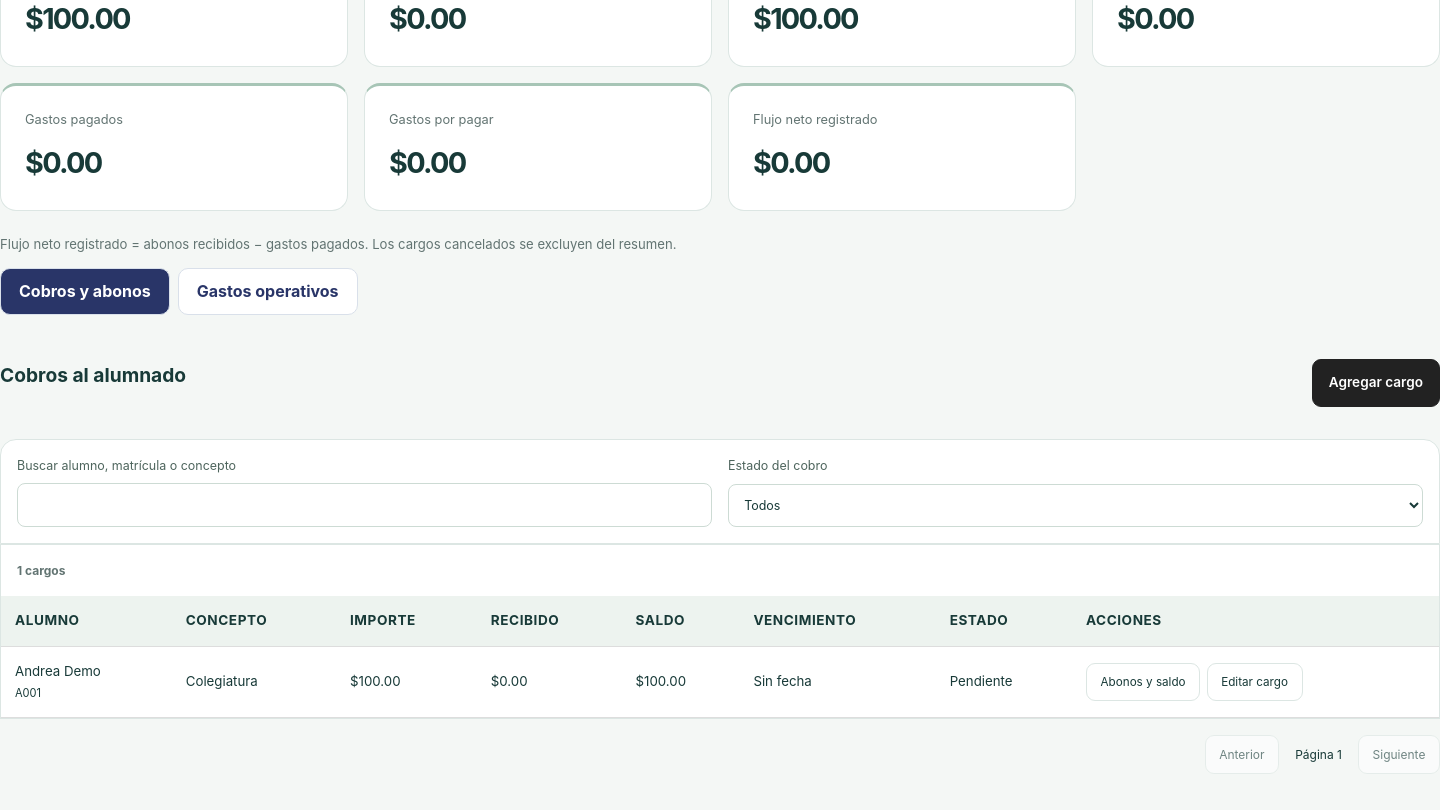
Test: registra abonos con identificador de reintento y actualiza el saldo
(page scrolled)
Click the button "Abonos y saldo".
click(1143, 682)  # box x1=1086 y1=663 x2=1200 y2=701
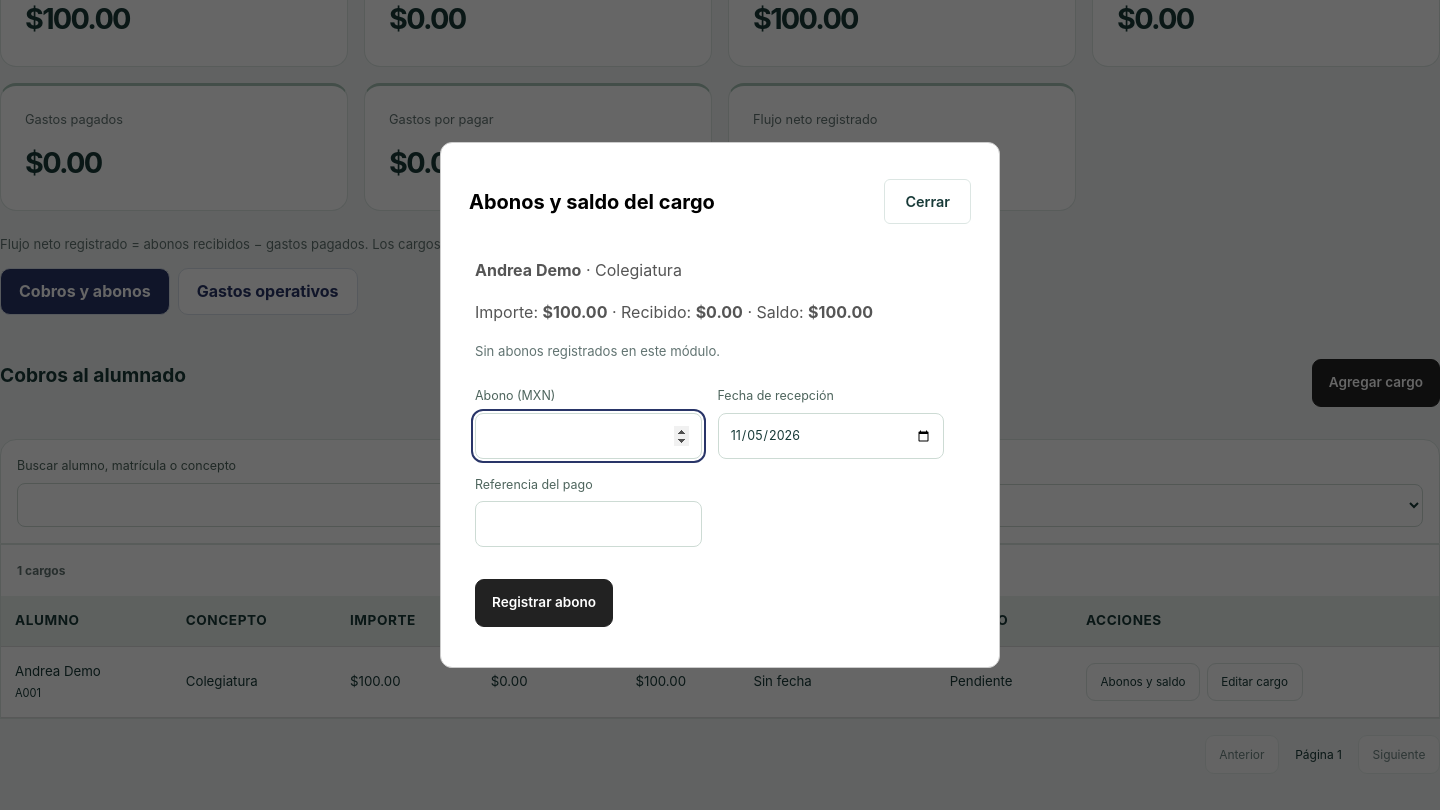
Type "25" into the number field labelled "Abono (MXN)".
click(588, 436); type("25")  # box x1=475 y1=413 x2=702 y2=459
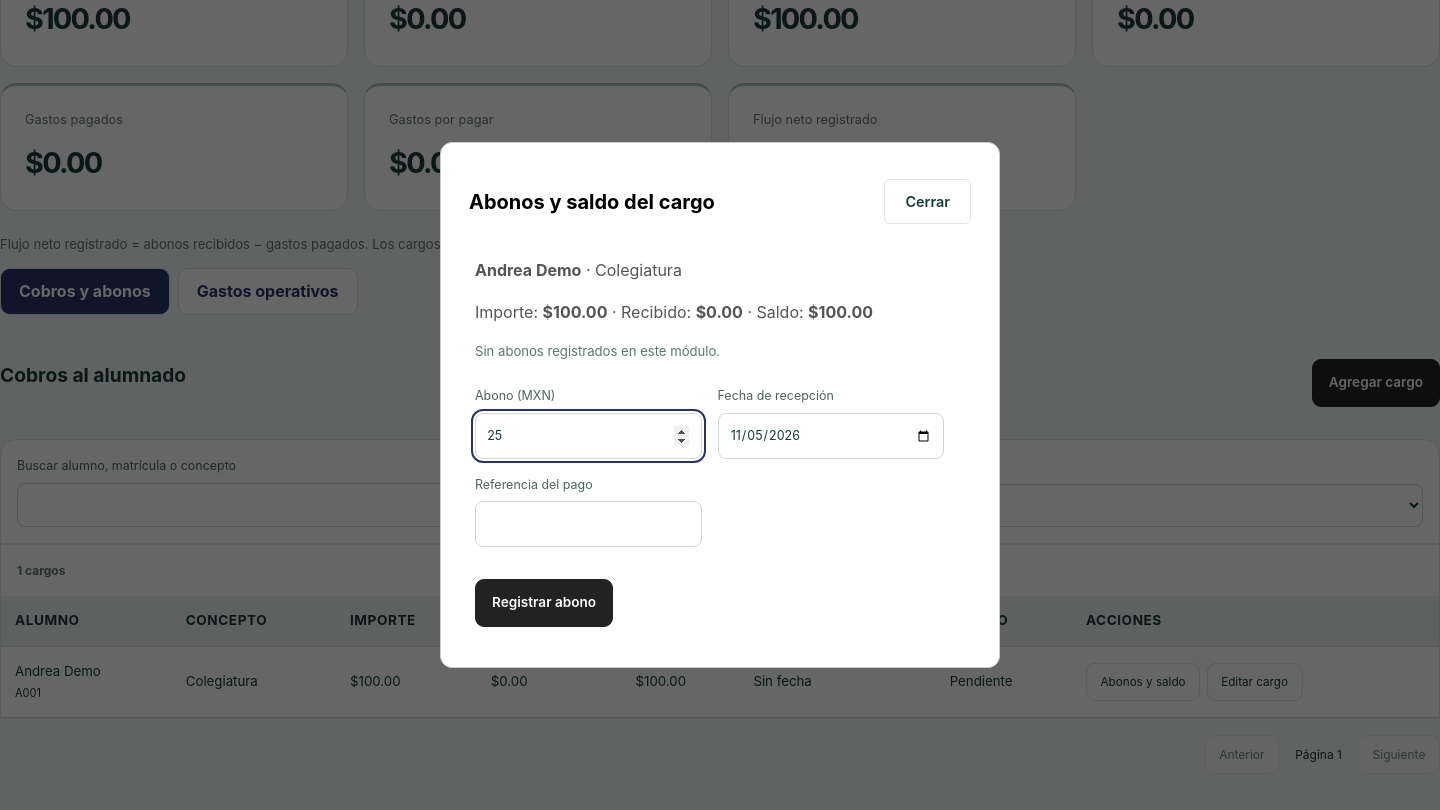
Click the button "Registrar abono".
click(544, 603)  # box x1=475 y1=579 x2=613 y2=627
(page scrolled)
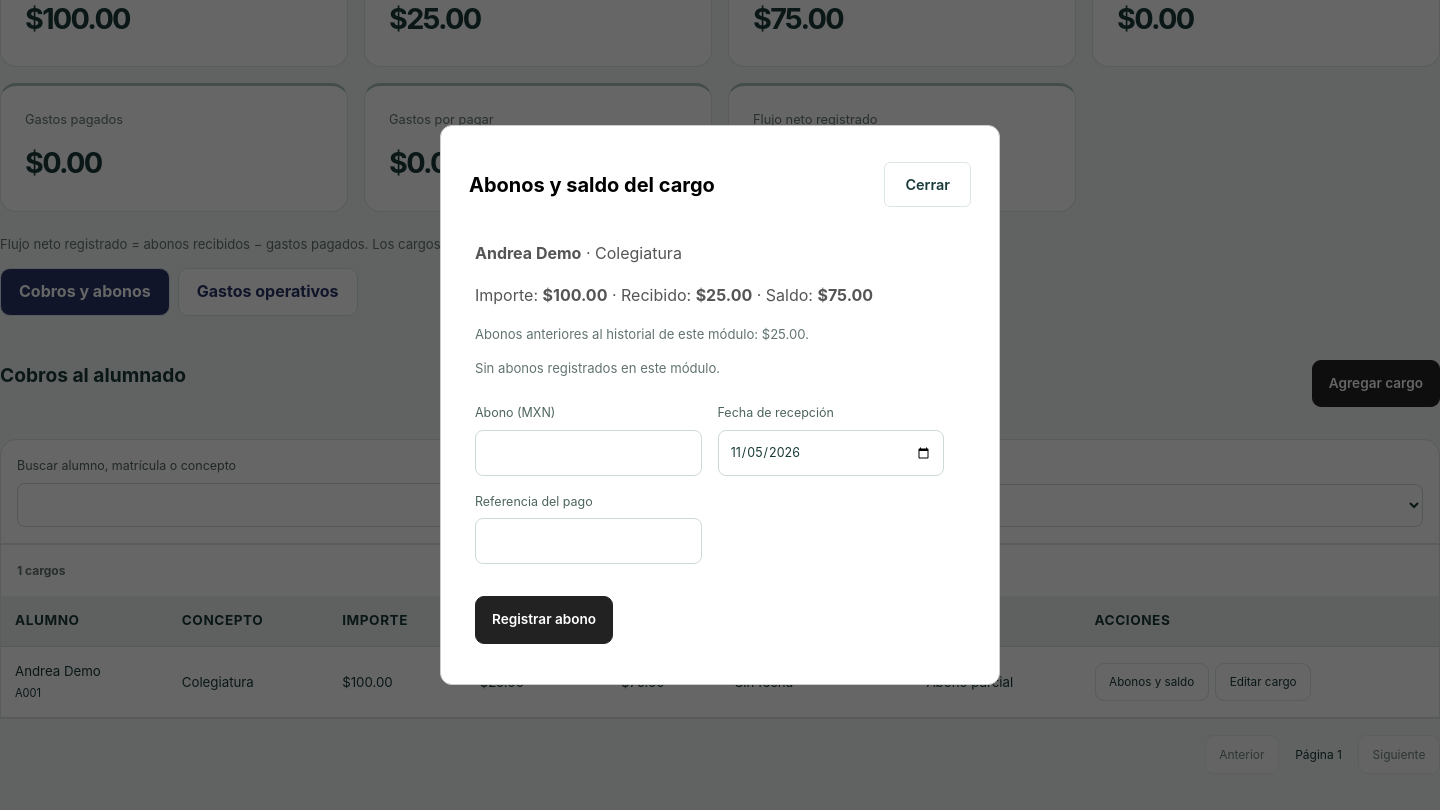
Check: the text "$75.00" is shown, box x1=818 y1=285 x2=873 y2=305
